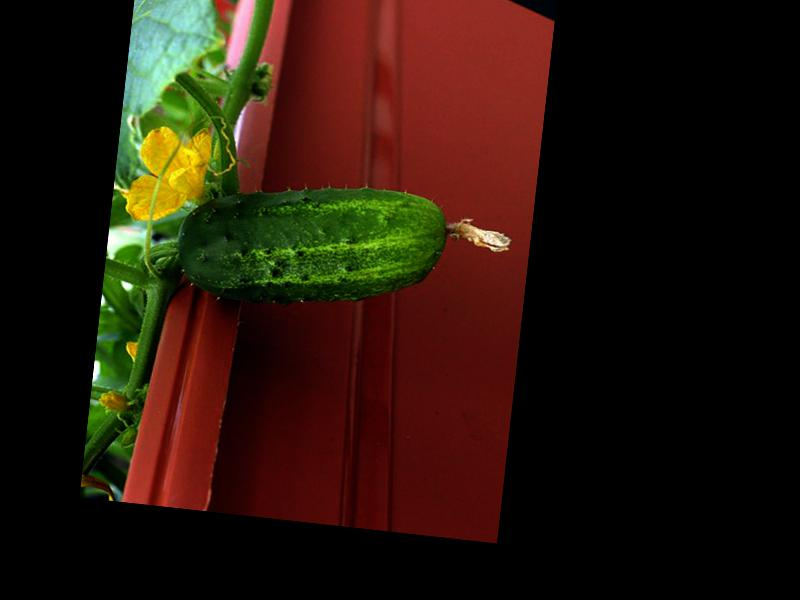Cucumber: (171, 166, 517, 329)
